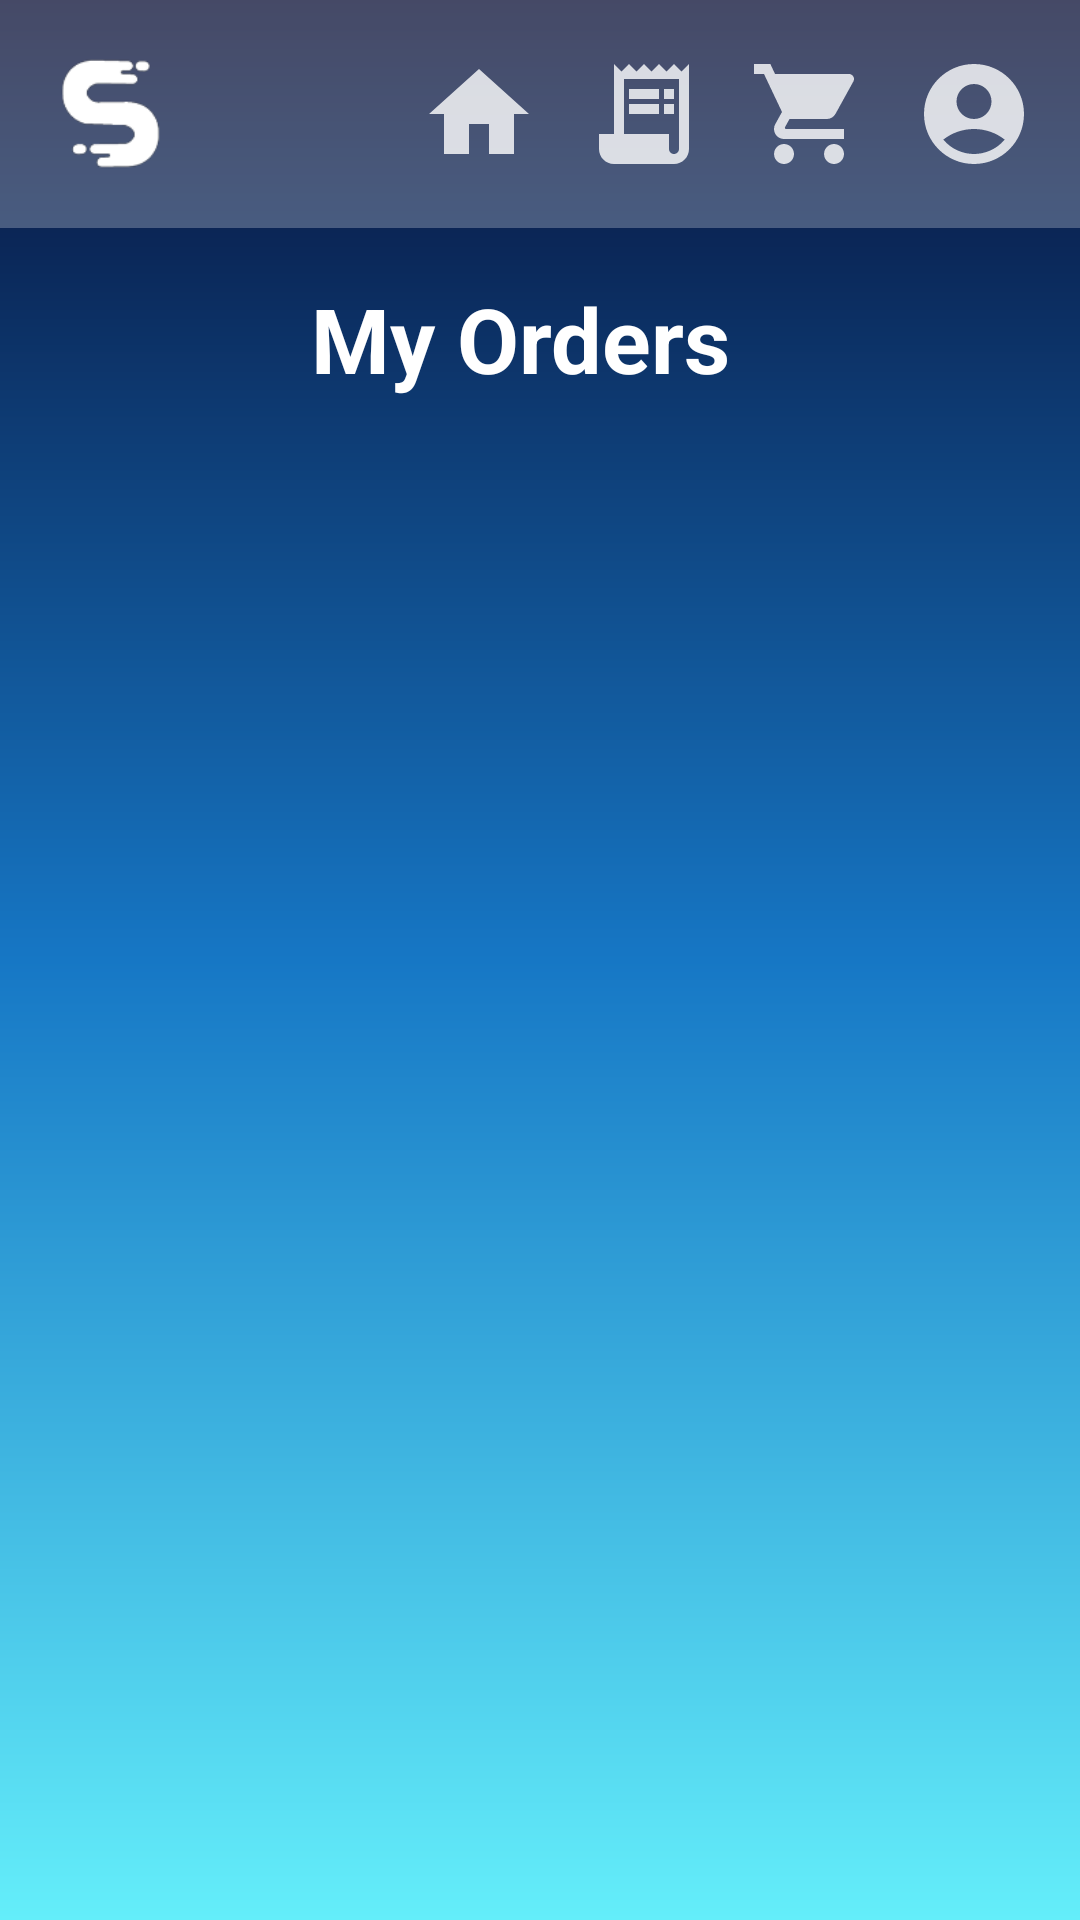

Where icons sit on this 1080 × 1920 app screen, as (x1, y1, x2, y2):
Accounts: (924, 64, 1024, 164)
Cart: (726, 64, 891, 204)
Home: (429, 69, 529, 154)
